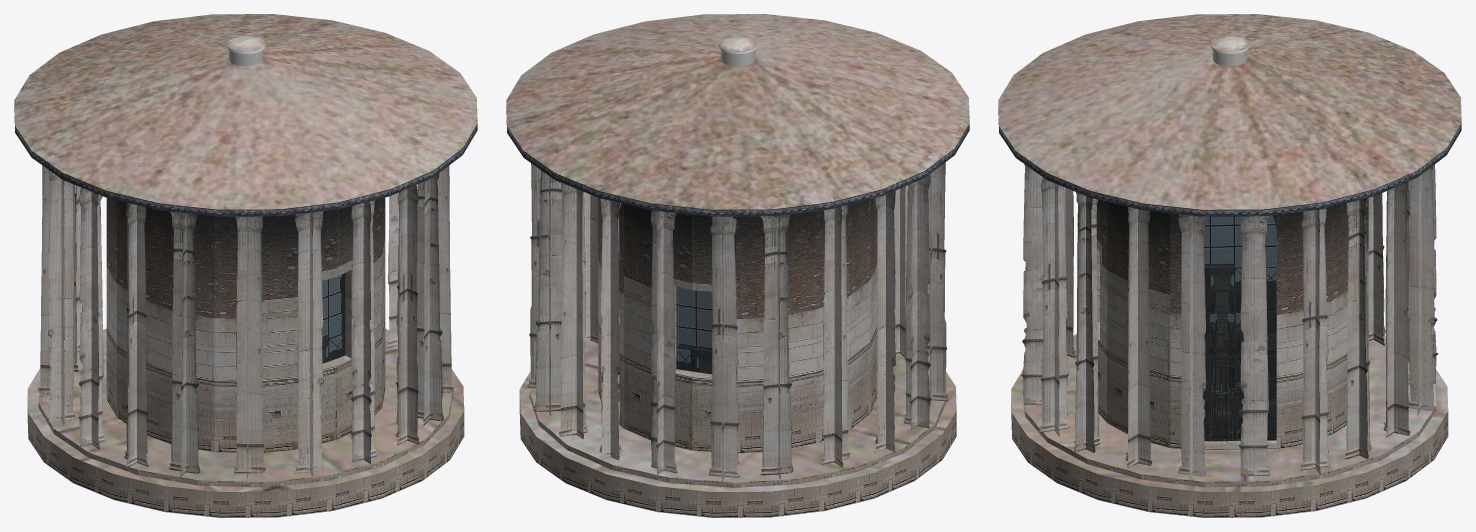
Rendered from temple.dae.
The picture shows the model from 3 angles, left to right: view 1: azimuth 30°, elevation 25°; view 2: azimuth 150°, elevation 25°; view 3: azimuth 270°, elevation 25°; orthographic projection.
Visible parts, largest first — view 1: Model, Group19, Group17, Group18, Group13, Group15, Group20, Group1, Group11, Group16, Group2, Group12 (+3 smaller); view 2: Model, Group14, Group8, Group12, Group7, Group9, Group20, Group6, Group10, Group13, Group11, Group3 (+2 smaller); view 3: Model, Group4, Group3, Group5, Group16, Group10, Group2, Group1, Group9, Group6, Group15, Group14 (+2 smaller).
Part boxes in pixels (left/top/right/bottom): Model: left=14, top=14, right=477, bottom=517; Group19: left=234, top=216, right=265, bottom=478; Group17: left=294, top=211, right=323, bottom=476; Group18: left=169, top=211, right=200, bottom=476; Group13: left=48, top=170, right=76, bottom=425; Group15: left=350, top=200, right=376, bottom=463; Group20: left=78, top=187, right=104, bottom=449; Group1: left=416, top=173, right=443, bottom=426; Group11: left=124, top=203, right=148, bottom=467; Group16: left=395, top=185, right=419, bottom=445; Group2: left=437, top=166, right=453, bottom=392; Group12: left=38, top=165, right=51, bottom=394; Model: left=506, top=14, right=969, bottom=517; Group14: left=760, top=214, right=793, bottom=478; Group8: left=708, top=216, right=739, bottom=482; Group12: left=821, top=205, right=850, bottom=467; Group7: left=649, top=210, right=677, bottom=474; Group9: left=559, top=183, right=587, bottom=439; Group20: left=903, top=174, right=931, bottom=430; Group6: left=534, top=170, right=562, bottom=415; Group10: left=599, top=198, right=621, bottom=460; Group13: left=874, top=190, right=895, bottom=452; Group11: left=926, top=162, right=948, bottom=405; Group3: left=584, top=192, right=598, bottom=343; Model: left=998, top=14, right=1461, bottom=517; Group4: left=1238, top=215, right=1270, bottom=477; Group3: left=1178, top=214, right=1206, bottom=479; Group5: left=1299, top=208, right=1329, bottom=474; Group16: left=1039, top=177, right=1069, bottom=436; Group10: left=1408, top=165, right=1434, bottom=415; Group2: left=1125, top=206, right=1152, bottom=468; Group1: left=1074, top=192, right=1100, bottom=452; Group9: left=1383, top=182, right=1410, bottom=437; Group6: left=1344, top=198, right=1371, bottom=459; Group15: left=1021, top=164, right=1043, bottom=408; Group14: left=1368, top=193, right=1385, bottom=345.
Size of the model in its own units: 20.12 by 20.12 by 18.48.
